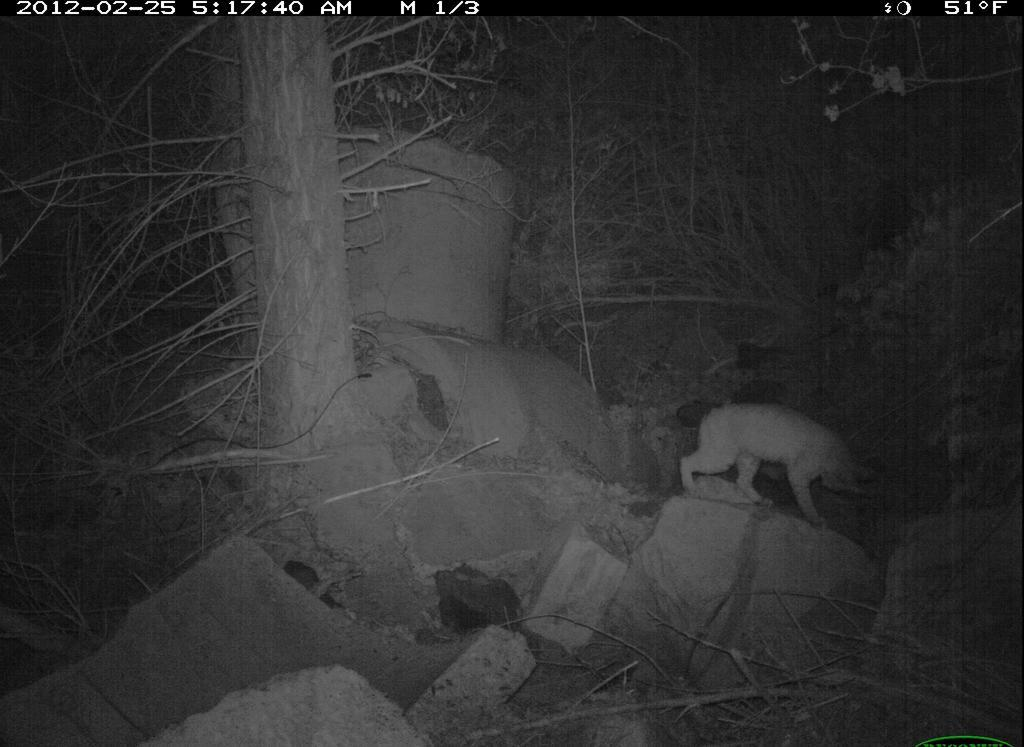bobcat: (681, 396, 889, 539)
